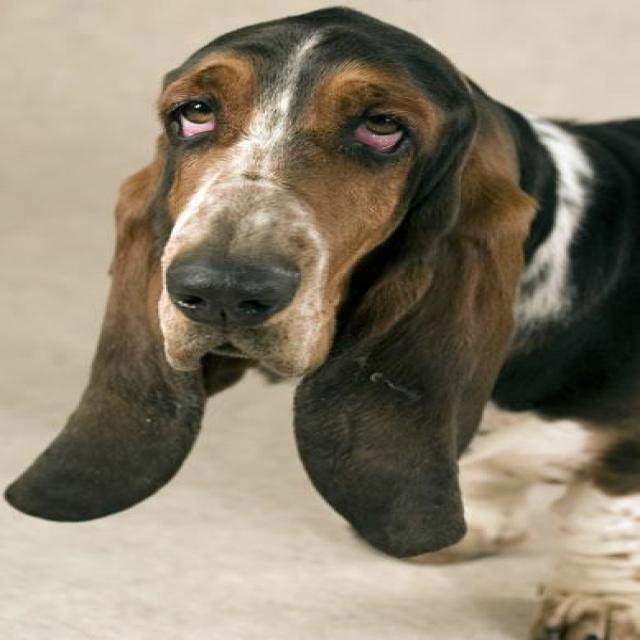basset: (1, 4, 636, 545)
